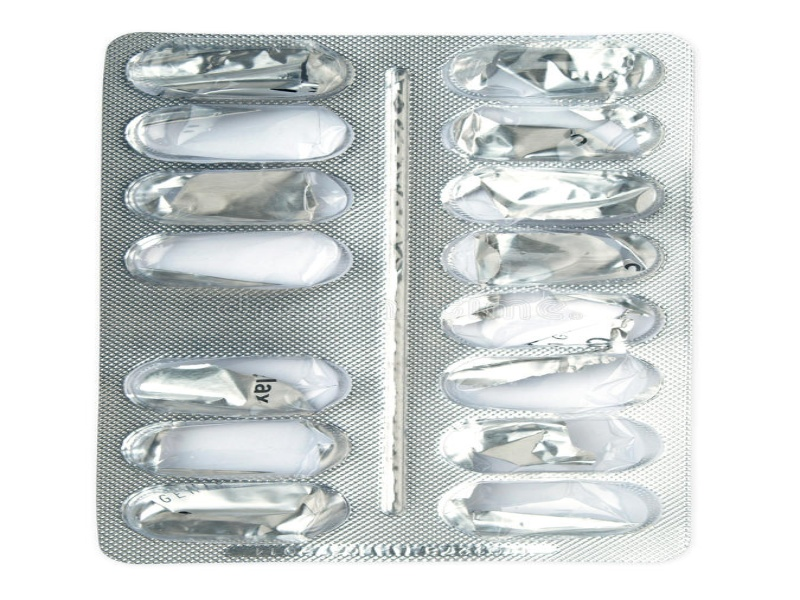Expired_tablets_NonBioD: (81, 13, 706, 587)
